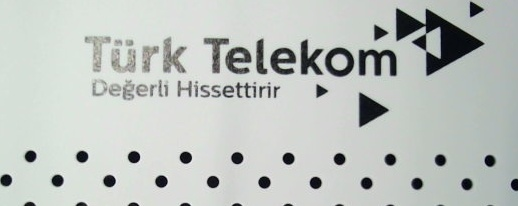AQ_TURKTelekom: (76, 3, 485, 129)
